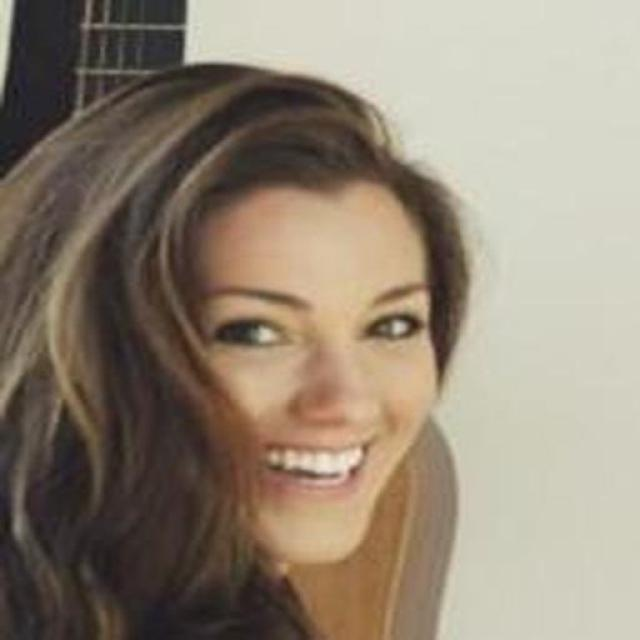bareface: (96, 74, 428, 578)
